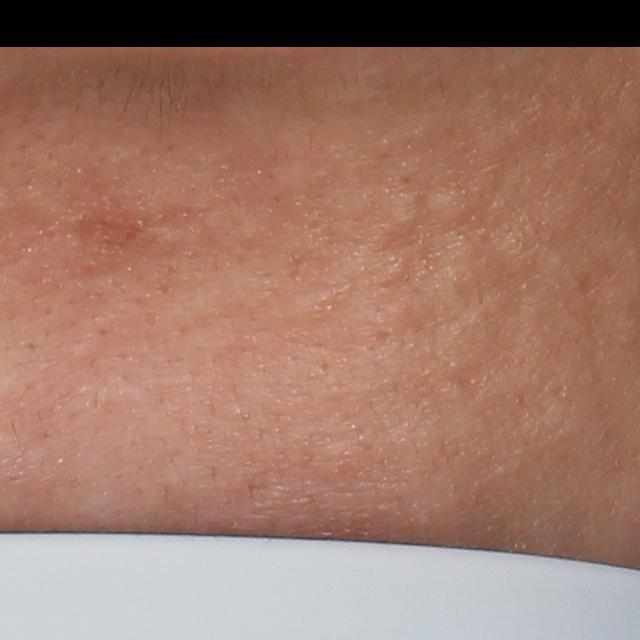hypertrophic_scar: (144, 219, 209, 250), (377, 186, 416, 229), (424, 189, 463, 227)
